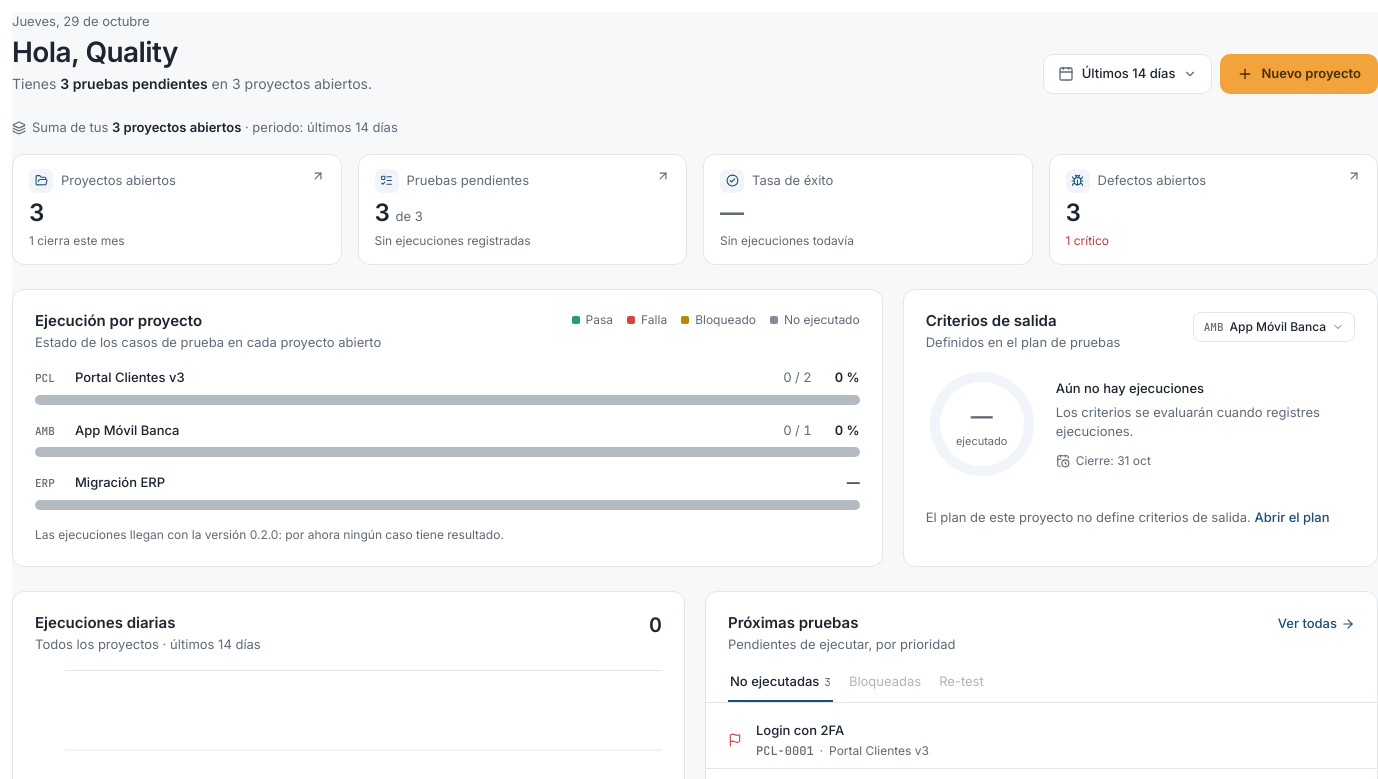
Test: Inicio (RED-V1, SPEC §8) › picks the exit-criteria project that closes first and lets the user search and switch
Expected: the text "Cierre: 31 oct" is shown, [1056,453,1151,468]
Expected: the text "El plan de este proyecto no define criterios de salida." is shown, [926,509,1251,525]
Click the button "AMB App Móvil Banca": point(1274, 327) [1193,312,1355,342]
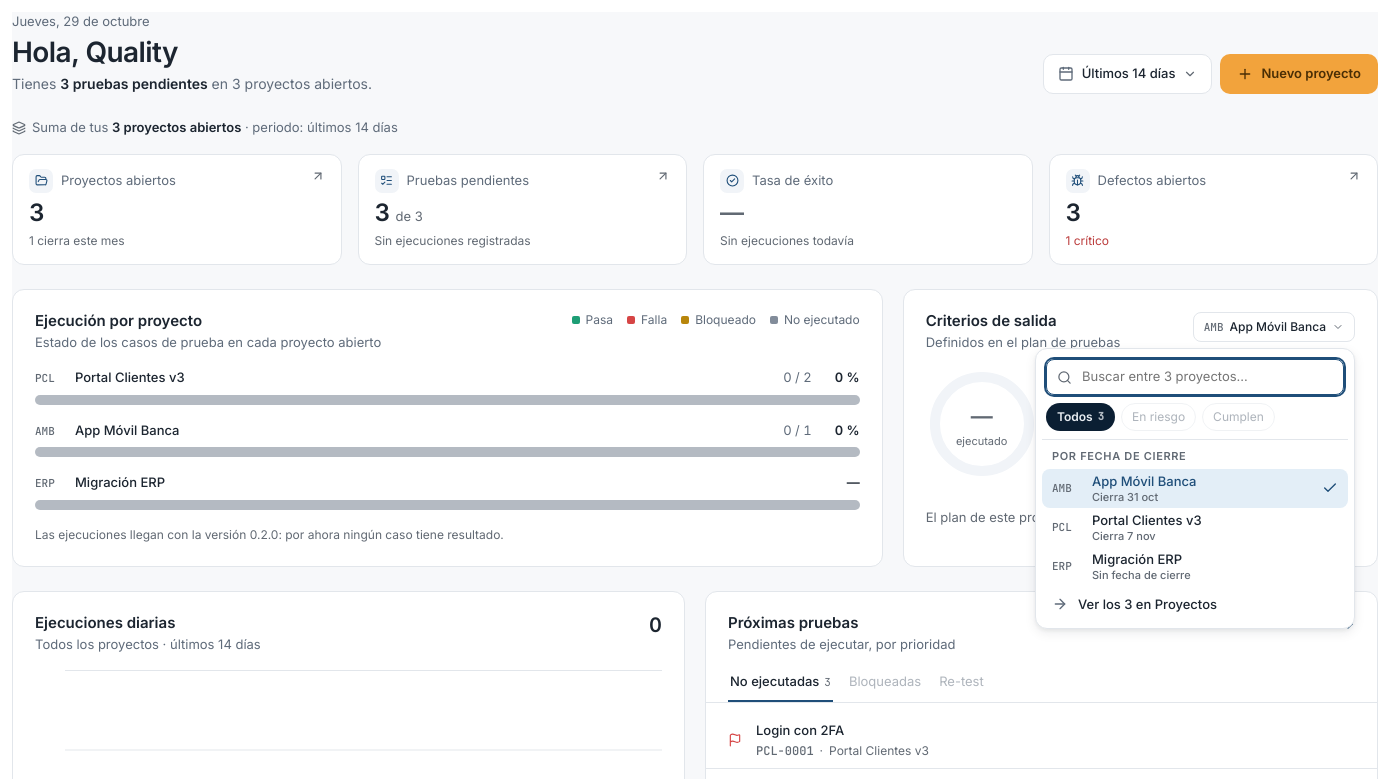
Result: the button "En riesgo" is disabled at [1121,403,1196,431]
In the search field with test id "exit-search": point(1206, 377) [1080,366,1333,388], type "zzz"
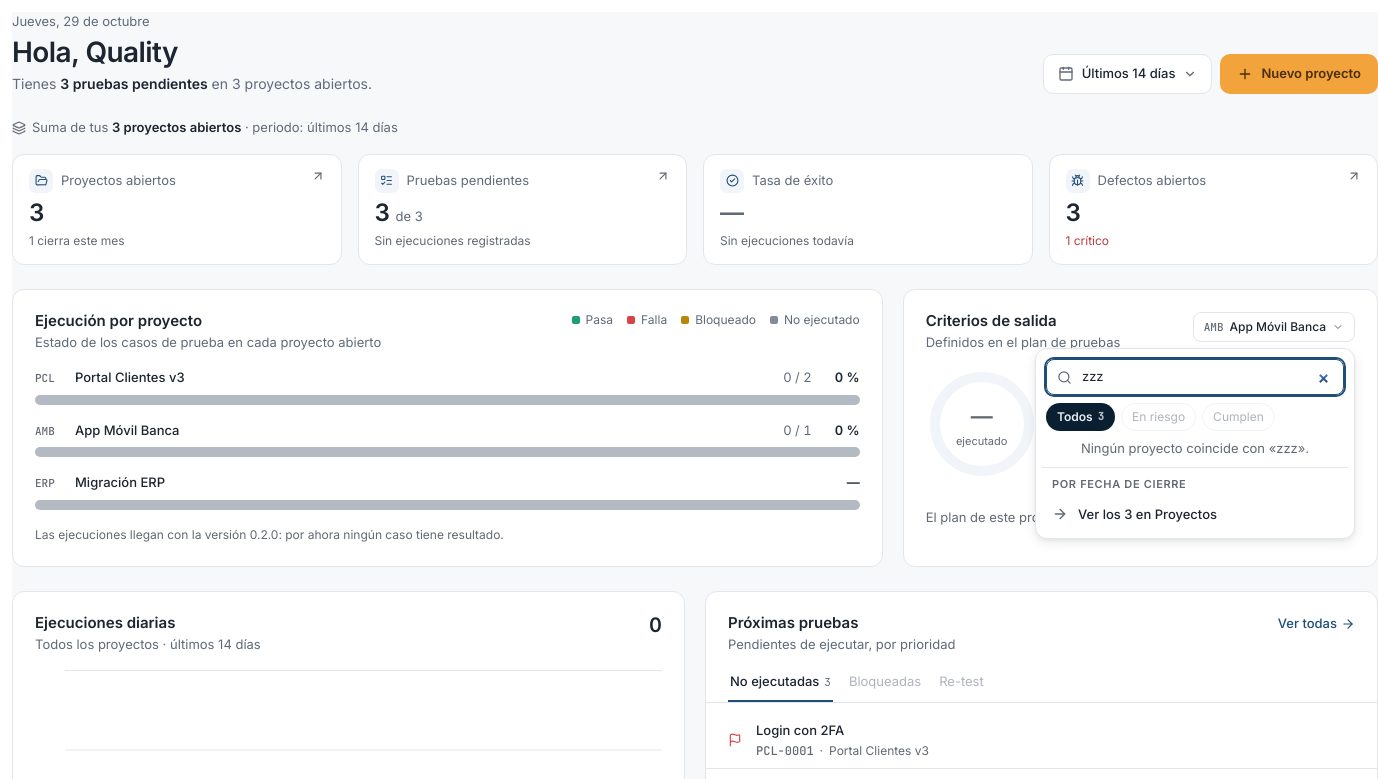
Result: the message reads "Ningún proyecto coincide con «zzz»." at [1081,440,1309,456]
Replace the text in the search field with test id "exit-search" with "portal": point(1206, 377) [1080,366,1333,388]
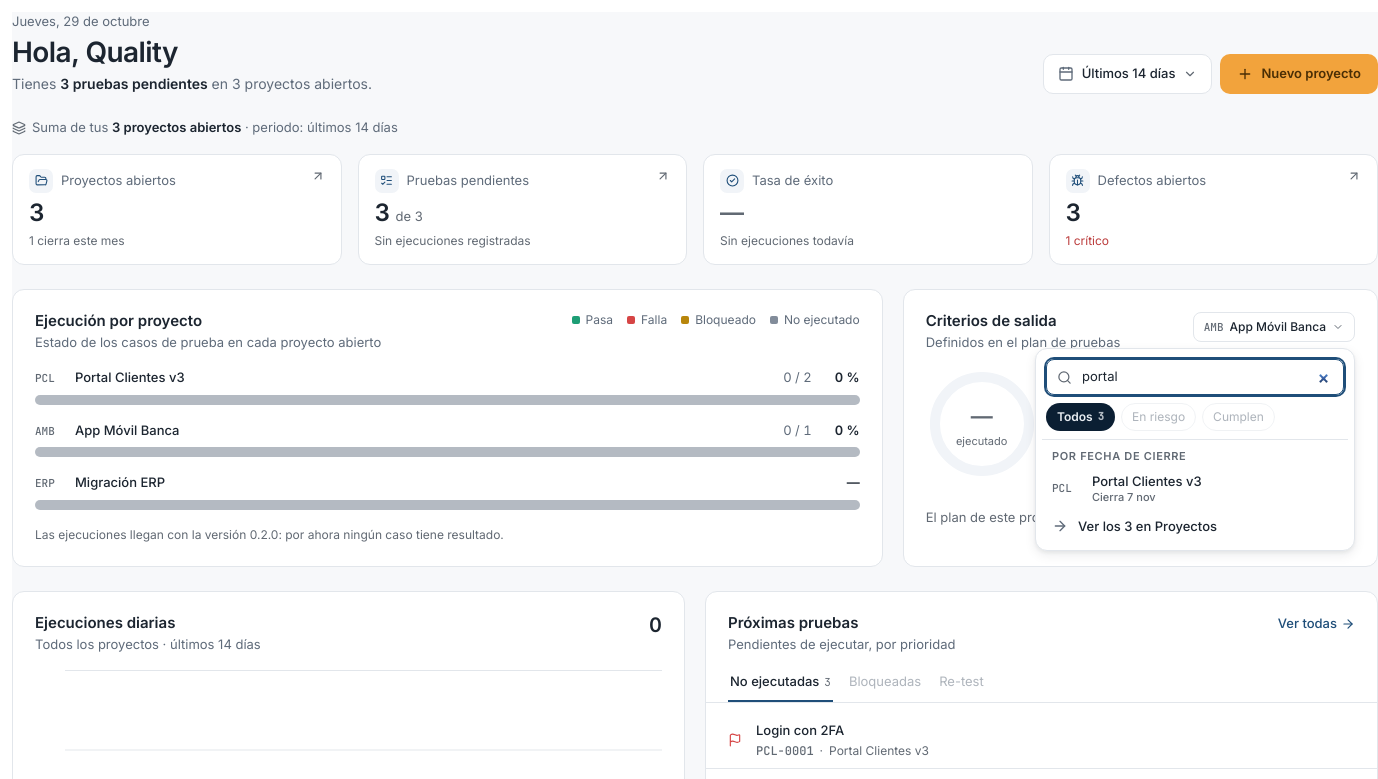
Click the menu item with test id "exit-choice-p-pcl": point(1195, 488) [1042,469,1348,508]
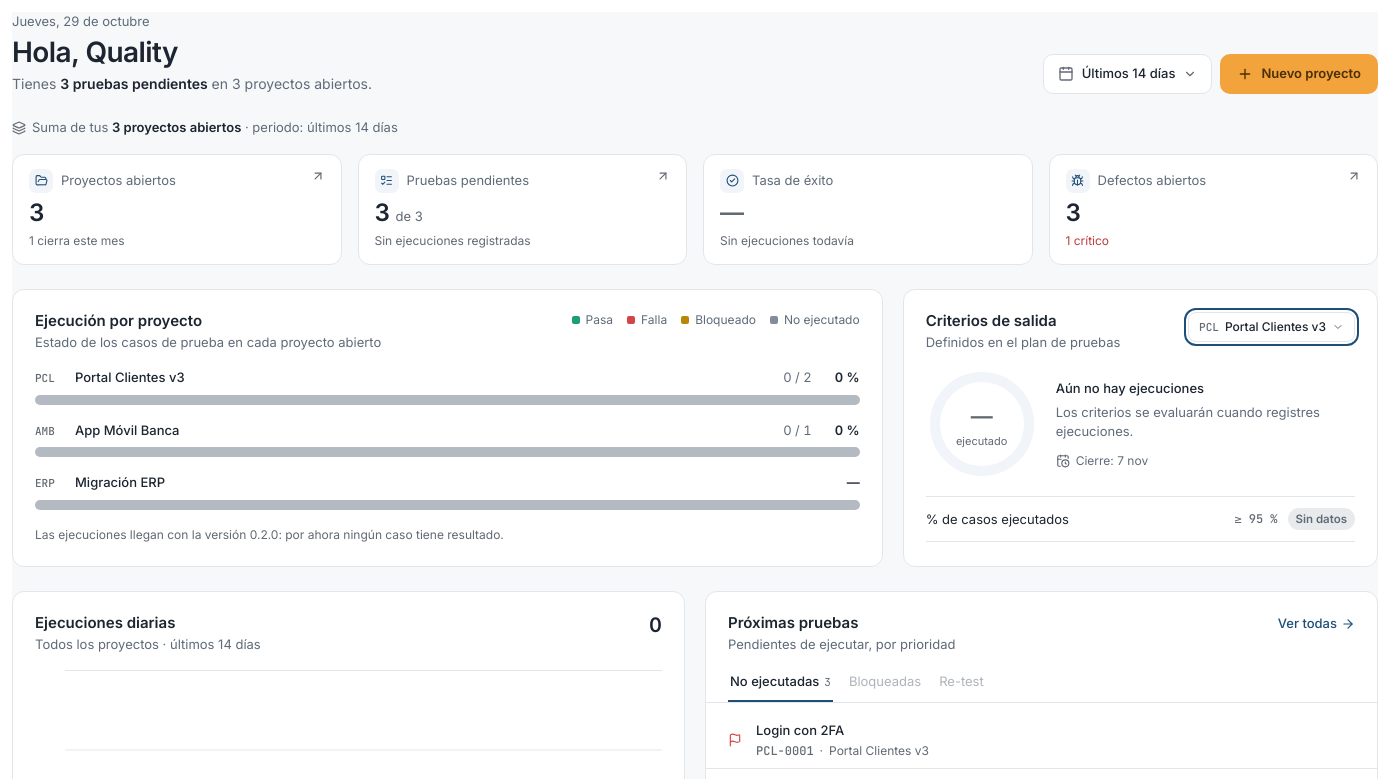
Result: the button "PCL Portal Clientes v3" is shown at [1188,312,1355,342]
Result: the list with test id "home-criteria" shows "% de casos ejecutados" at [926,511,1069,527]
Result: the list with test id "home-criteria" shows "Sin datos" at [1296,512,1347,526]
